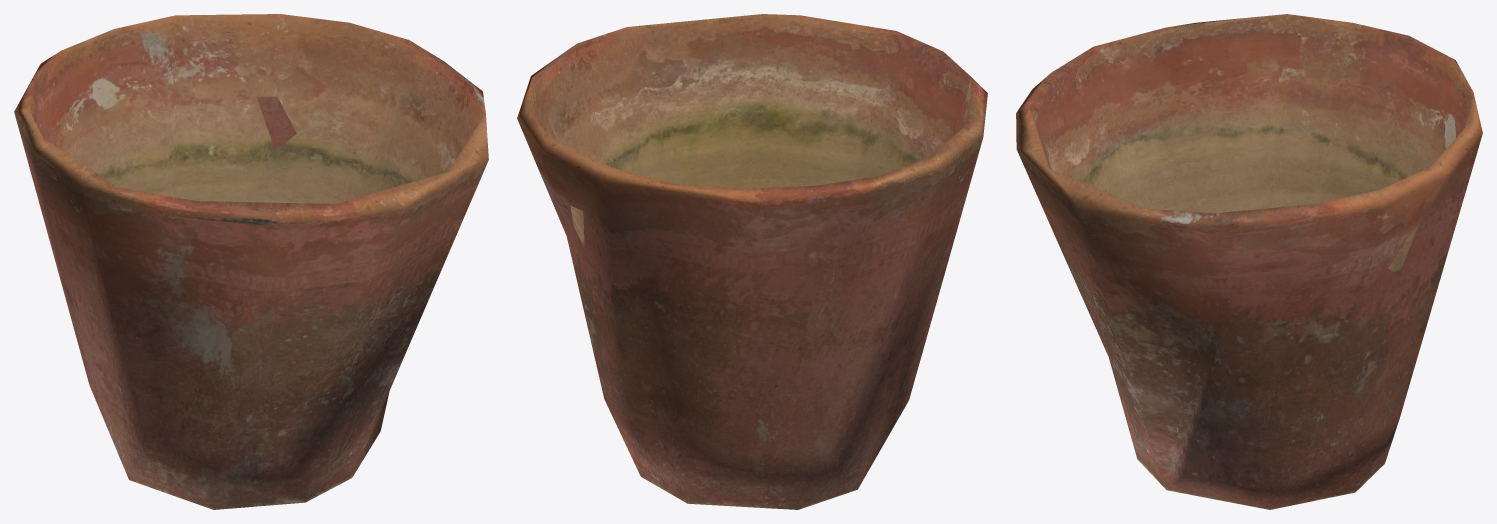
Rendered from pot-lod.glb.
3 views of the same model, side by side, from view 1: azimuth 30°, elevation 25°; view 2: azimuth 150°, elevation 25°; view 3: azimuth 270°, elevation 25° (orthographic).
Visible parts, largest first — view 1: planter_pot_clay; view 2: planter_pot_clay; view 3: planter_pot_clay.
Boxes of the visible parts, left/top/right/bottom form: planter_pot_clay: left=14, top=14, right=488, bottom=509; planter_pot_clay: left=517, top=14, right=987, bottom=509; planter_pot_clay: left=1016, top=14, right=1482, bottom=509.
Bounding box in the file's own units: 0.2637 × 0.2205 × 0.2593.
Materials: 1 (1 with a texture image).
